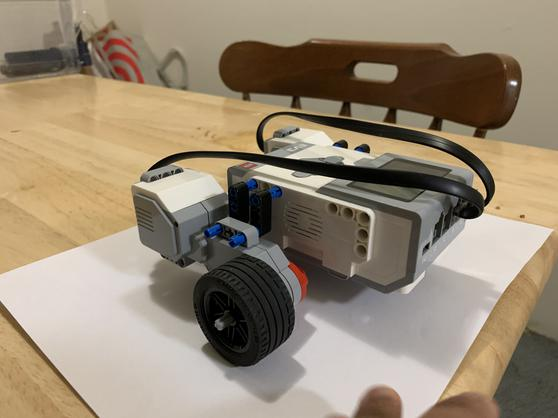robot: (126, 103, 501, 368)
